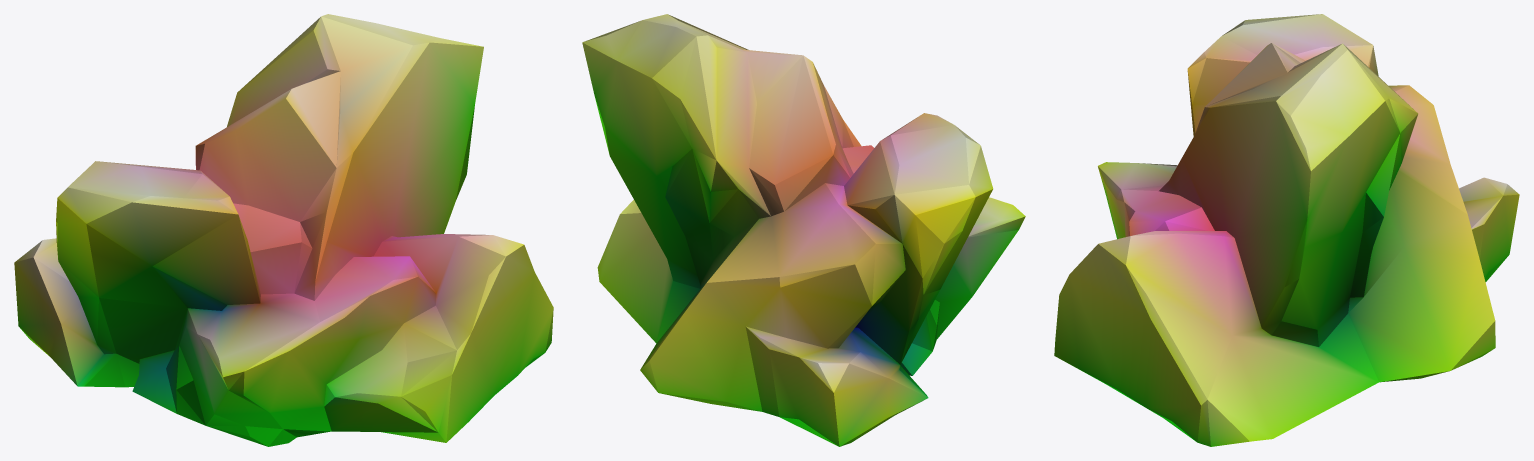
The model's file is rock_group_03_LOD3.fbx.
The picture shows the model from 3 angles, left to right: view 1: azimuth 30°, elevation 25°; view 2: azimuth 150°, elevation 25°; view 3: azimuth 270°, elevation 25°; orthographic projection. The views are drawn at different scales.
Visible parts, largest first — view 1: LOD2; view 2: LOD2; view 3: LOD2.
Boxes of the visible parts, x1=… form: LOD2: x1=14, y1=14, x2=553, y2=446; LOD2: x1=582, y1=14, x2=1025, y2=446; LOD2: x1=1054, y1=14, x2=1519, y2=446.
Bounding box in the file's own units: 629 × 441 × 574.
